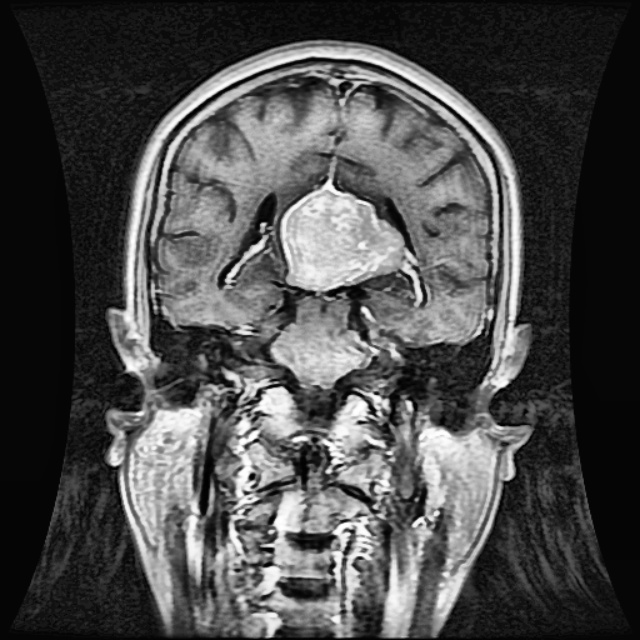Glioma: (279, 188, 405, 289)
